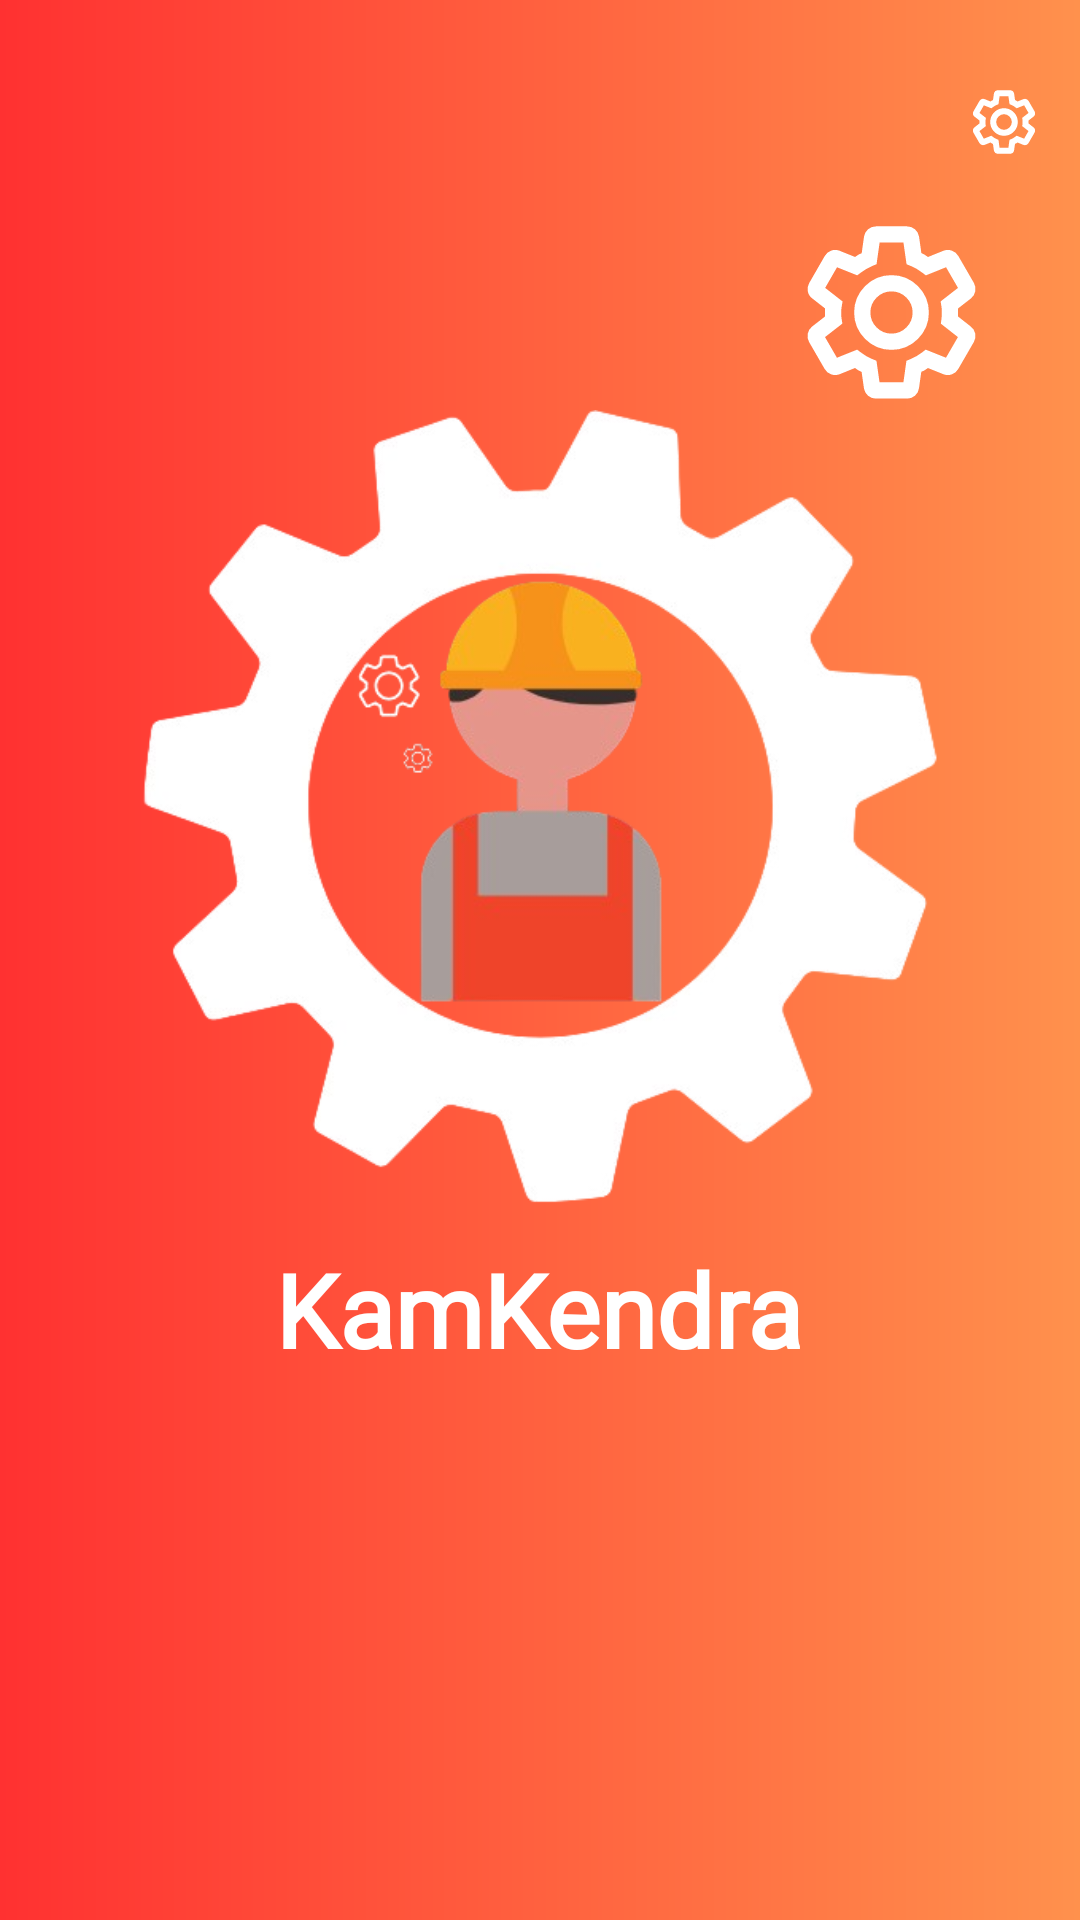

Named icons in this screenshot (1080*1920) and their bounding boxes, (x1=x1, y1=y1, x2=x2, y2=y2):
settings: (x1=973, y1=90, x2=1035, y2=154), (x1=807, y1=226, x2=976, y2=399)
